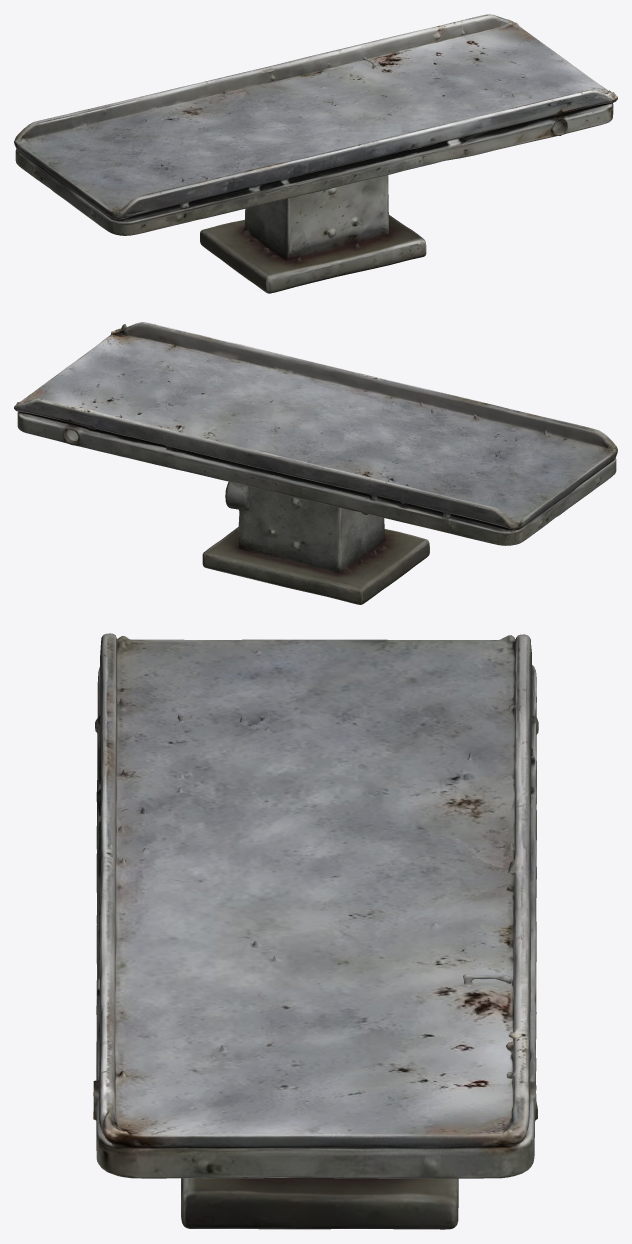
The model's file is autopsy_table.glb.
3 renders of one model, top to bottom at view 1: azimuth 30°, elevation 25°; view 2: azimuth 150°, elevation 25°; view 3: azimuth 270°, elevation 25°, orthographic. The views are drawn at different scales.
Parts seen in each view (by area): view 1: tripo_node_52ce5880-3e42-4988-a3f8-0ccdb25c37c9; view 2: tripo_node_52ce5880-3e42-4988-a3f8-0ccdb25c37c9; view 3: tripo_node_52ce5880-3e42-4988-a3f8-0ccdb25c37c9.
Boxes of the visible parts, x1,y1,x2,y2 form: tripo_node_52ce5880-3e42-4988-a3f8-0ccdb25c37c9: (14, 14, 617, 293); tripo_node_52ce5880-3e42-4988-a3f8-0ccdb25c37c9: (14, 322, 617, 604); tripo_node_52ce5880-3e42-4988-a3f8-0ccdb25c37c9: (93, 633, 538, 1229).
Bounding box in the file's own units: 0.9936 × 0.2793 × 0.3782.
Materials: 1 (1 with a texture image).
